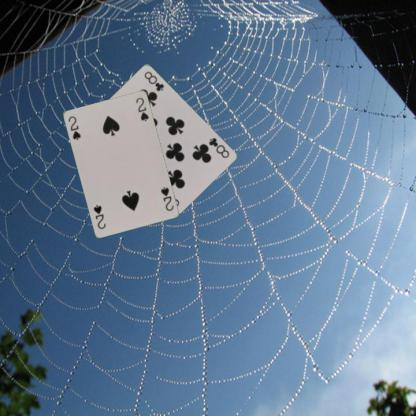2s: (66, 113, 82, 141), (158, 184, 174, 212)
8c: (206, 134, 230, 160)
